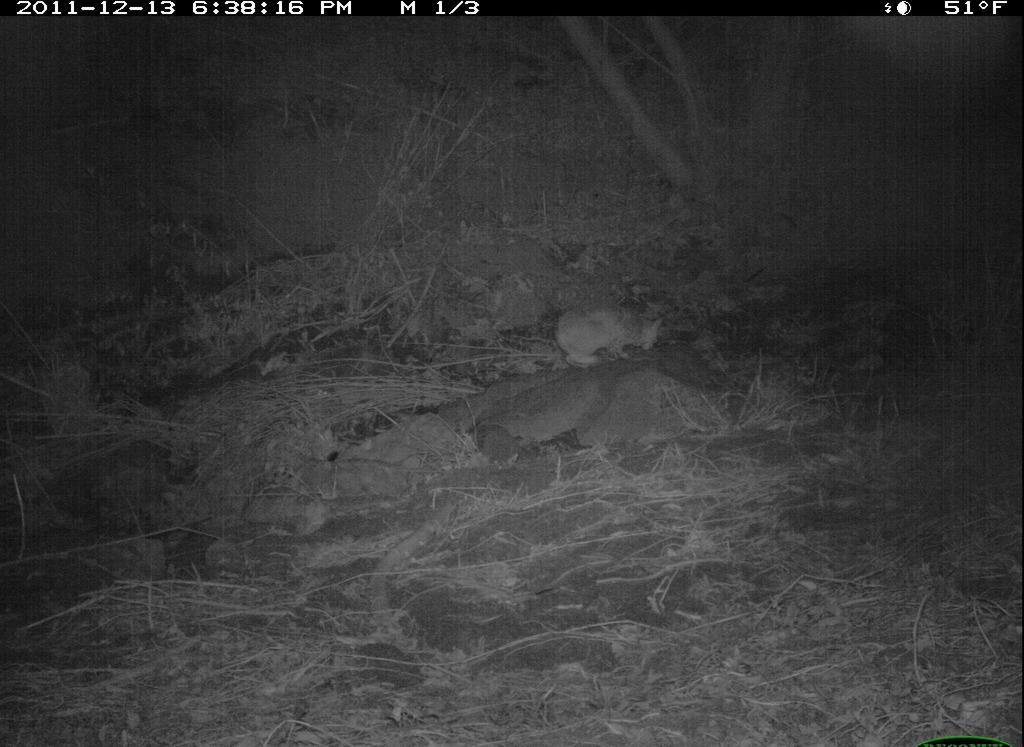bobcat: (539, 294, 675, 385)
